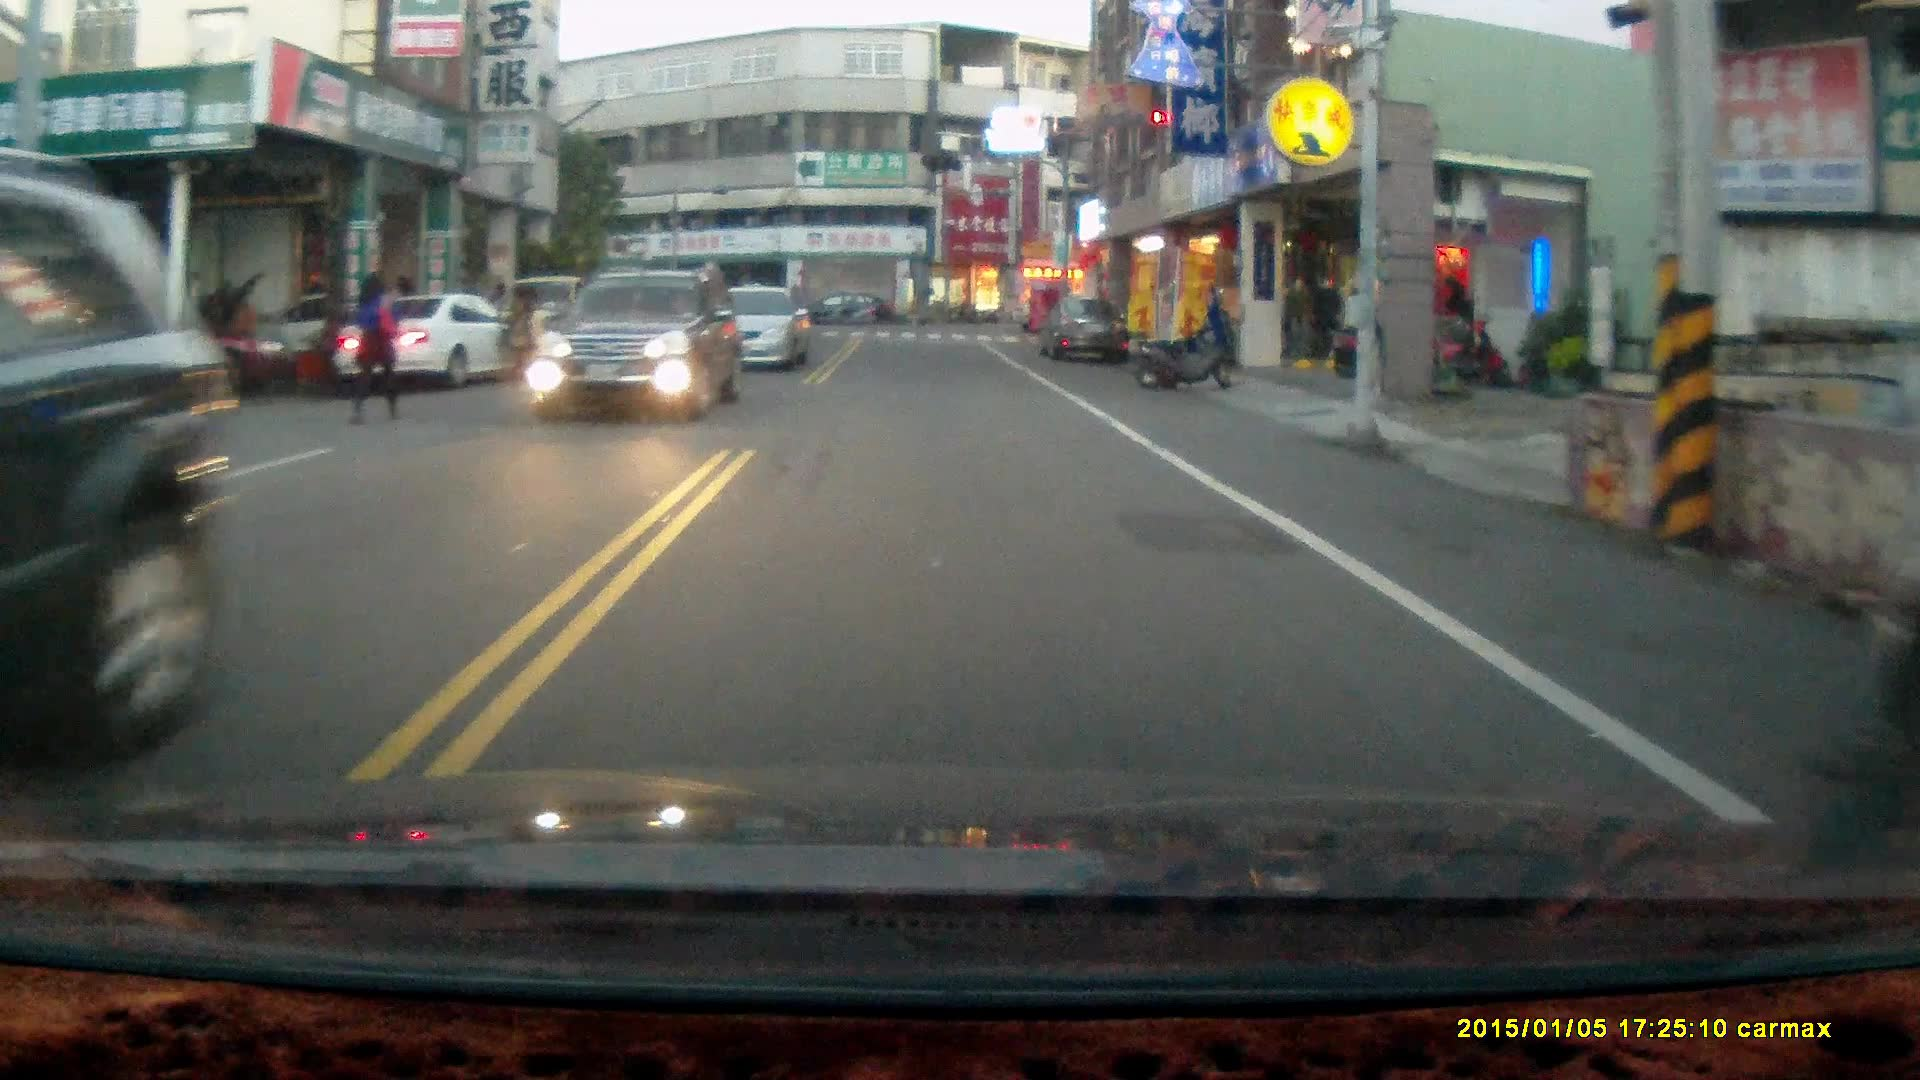pedestrian: (351, 266, 397, 425), (494, 279, 533, 382)
vehicle: (1, 181, 195, 821), (541, 264, 748, 420), (334, 290, 544, 392), (689, 280, 814, 370), (1044, 295, 1136, 368), (797, 290, 902, 330)
